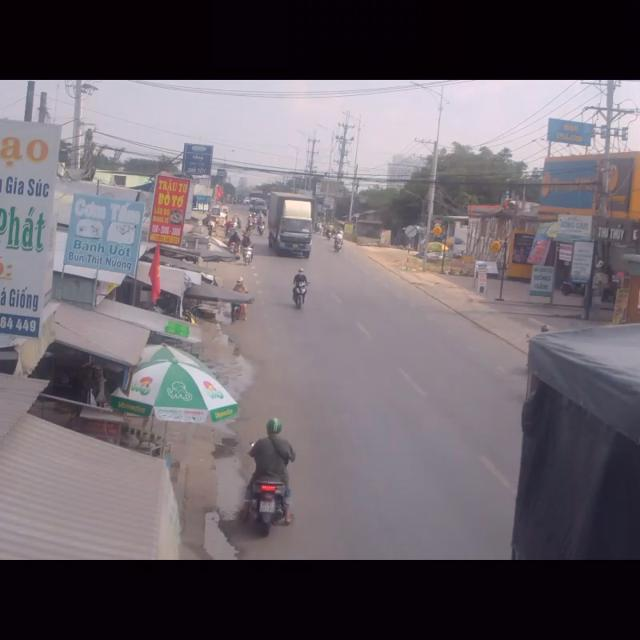motorbike: (229, 418, 298, 548), (290, 263, 308, 311)
truck: (515, 321, 639, 559)
